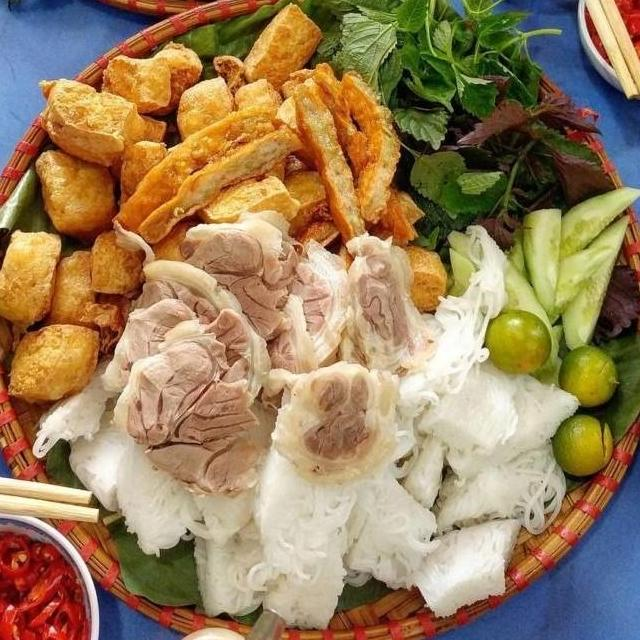bun: (344, 218, 573, 626), (18, 372, 219, 558), (189, 432, 368, 634)
bun dau: (9, 23, 640, 636)
cha com: (106, 105, 305, 248), (281, 55, 414, 248)
dau hu: (42, 224, 151, 348), (36, 68, 156, 168), (96, 39, 209, 130), (1, 316, 110, 409), (26, 134, 124, 236), (234, 0, 334, 91), (0, 217, 75, 331)
thit heo: (94, 244, 280, 504), (171, 198, 366, 380), (269, 356, 412, 482), (331, 216, 437, 370)
